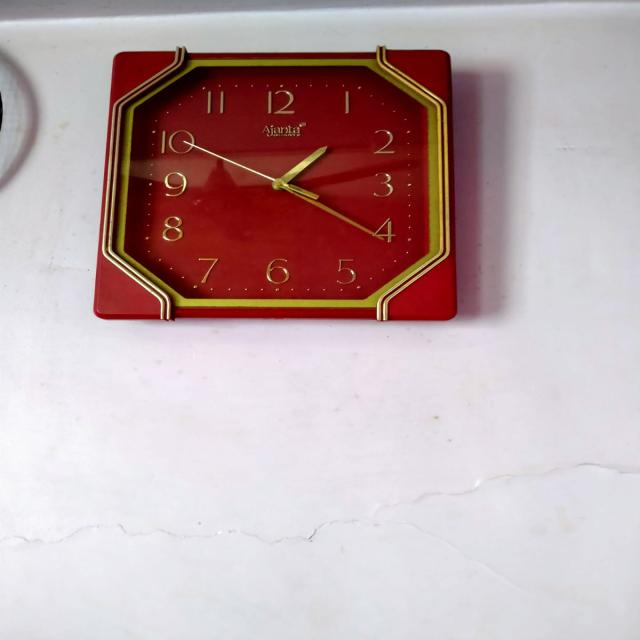Clock: (78, 37, 486, 330)
